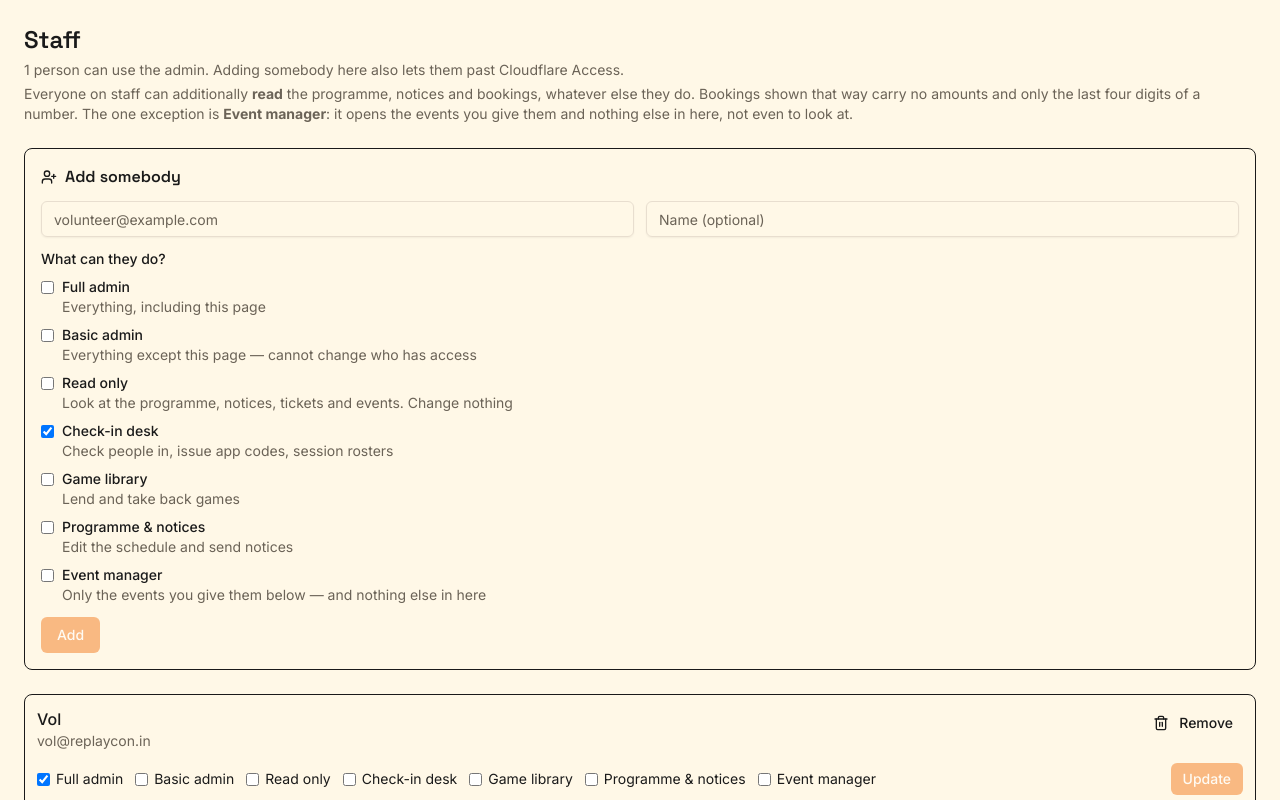
roles that contain each other › drops full admin when a desk is picked
The width and height of the screenshot is (1280, 800).
Expected: the text "Vol" is shown, top-left (37, 709), bottom-right (61, 729)
Step 1. Click the checkbox labelled "Check-in desk" → (349, 779), box top-left (343, 772), bottom-right (356, 786)
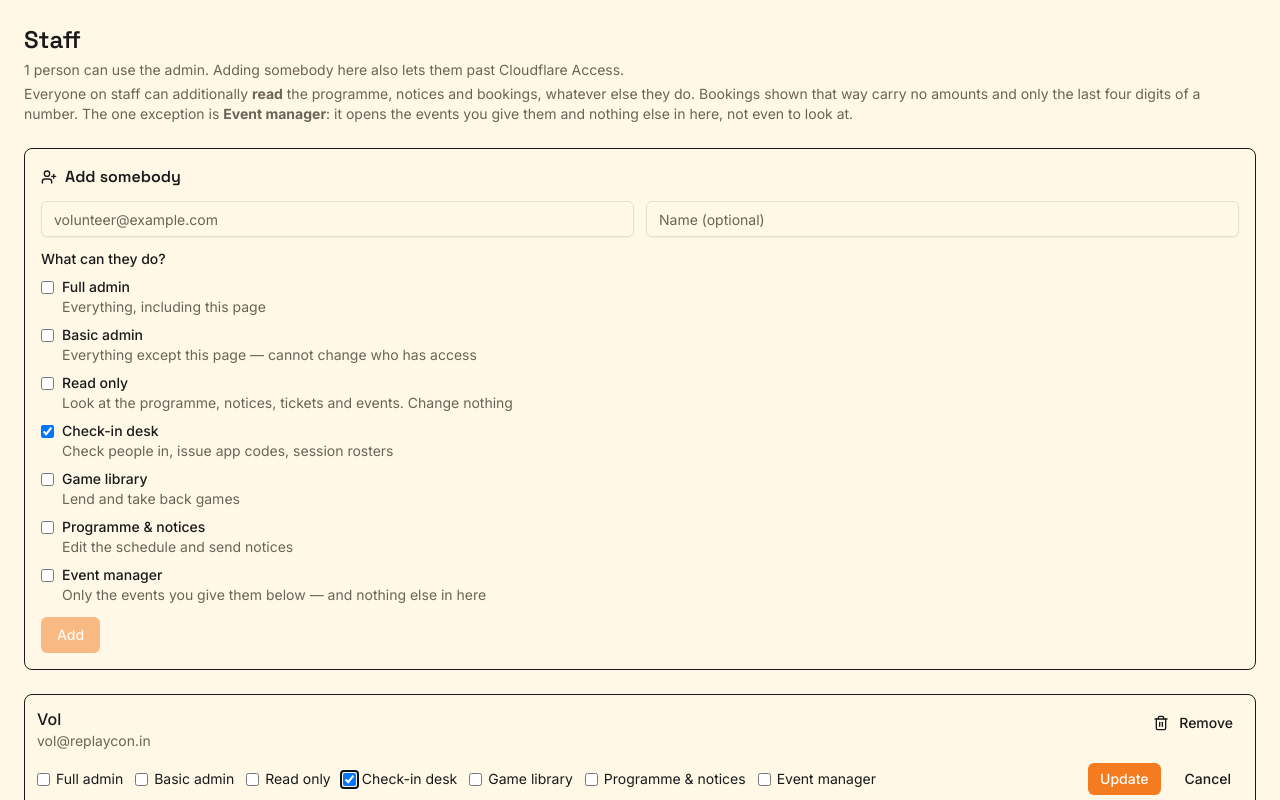
Now the checkbox labelled "Check-in desk" is checked, box top-left (343, 772), bottom-right (356, 786)
Now the checkbox labelled "Full admin" is not checked, box top-left (37, 772), bottom-right (50, 786)
